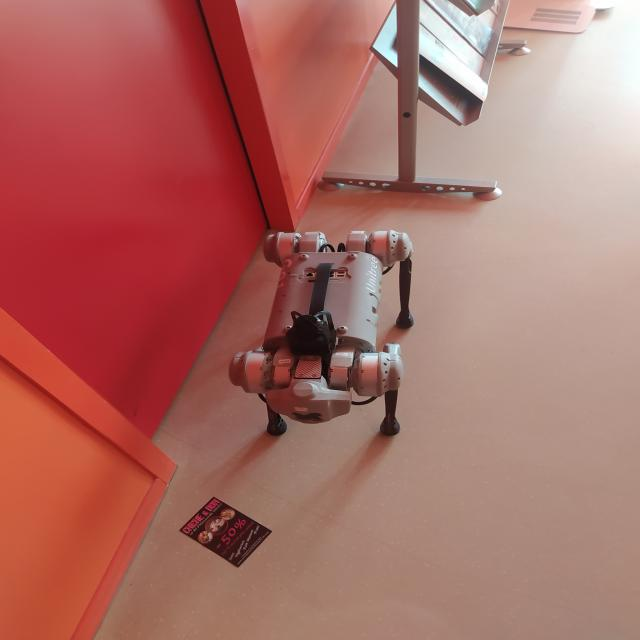unitree-go1-robot: (227, 215, 434, 452)
